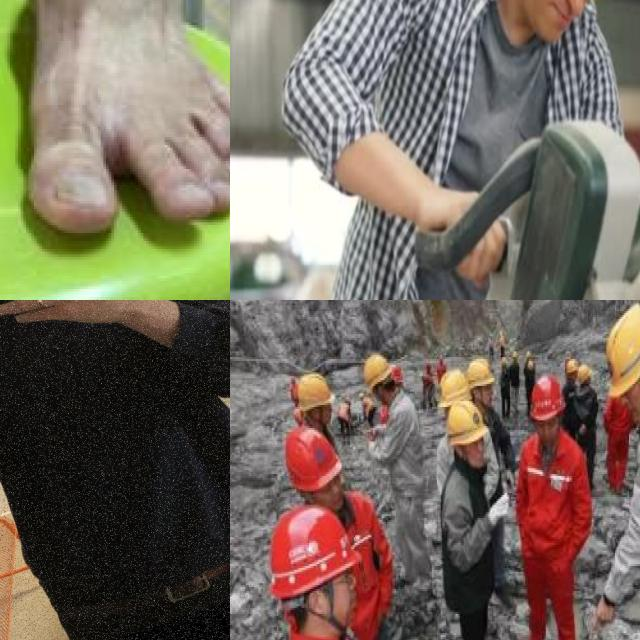Barefoots: (0, 0, 230, 261)
Ear-protection: (496, 0, 626, 54)
No_Ear-Protection: (310, 585, 328, 614)
No_Glasses: (328, 471, 345, 485)
face_nomask: (334, 582, 355, 627), (621, 380, 640, 426), (325, 484, 345, 513)
hand_glove: (487, 494, 508, 527)
hand_noglove: (592, 597, 614, 631)
head_helmet: (270, 505, 360, 600), (284, 428, 342, 492), (606, 303, 640, 397), (447, 400, 487, 446), (530, 374, 565, 421), (291, 372, 331, 412), (438, 368, 471, 409), (364, 353, 388, 390), (467, 359, 495, 390), (564, 353, 578, 375), (577, 365, 591, 384)
person: (270, 0, 640, 300), (0, 300, 230, 627)
